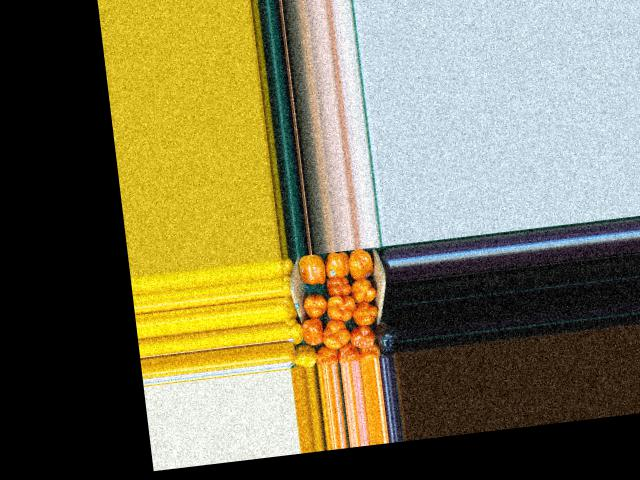bell_pepper: (286, 313, 303, 346)
